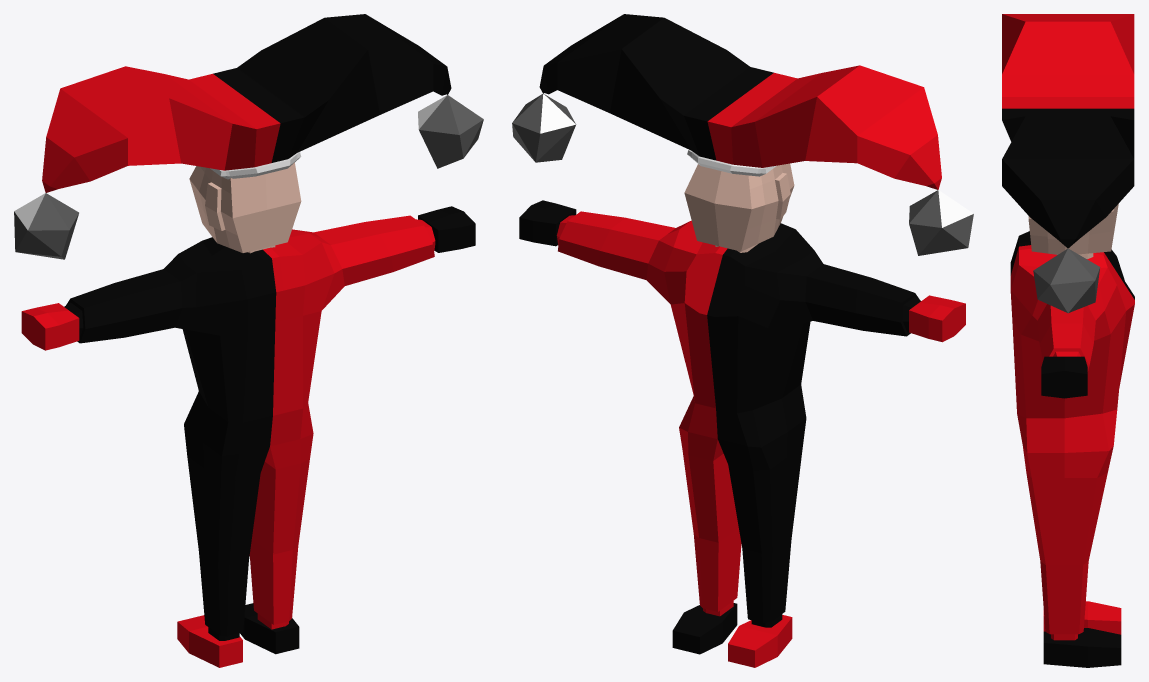
The model's file is jester[final].fbx.
3 views of the same model, side by side, from view 1: azimuth 30°, elevation 25°; view 2: azimuth 150°, elevation 25°; view 3: azimuth 270°, elevation 25° (orthographic). The views are drawn at different scales.
Visible parts, largest first — view 1: Character; view 2: Character; view 3: Character.
Part boxes in pixels (bbox=[...]): Character: bbox=[14, 14, 483, 667]; Character: bbox=[512, 14, 973, 667]; Character: bbox=[1002, 14, 1134, 667].
Size of the model in its own units: 789 by 962 by 201.
